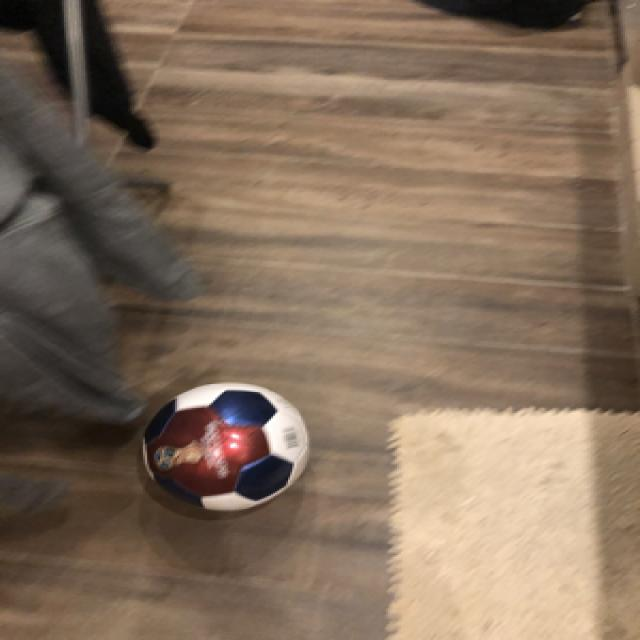soccer_ball: (136, 378, 310, 512)
